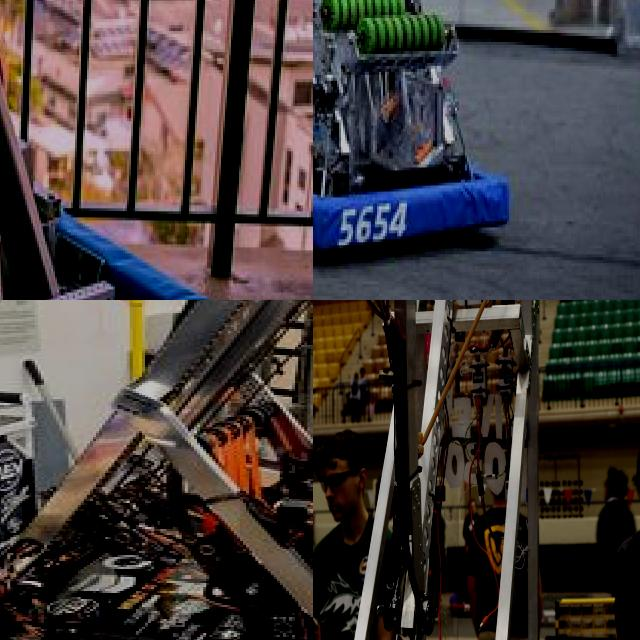FRC-Robots: (313, 300, 631, 640), (0, 300, 313, 640), (0, 0, 249, 300), (313, 0, 541, 241)
